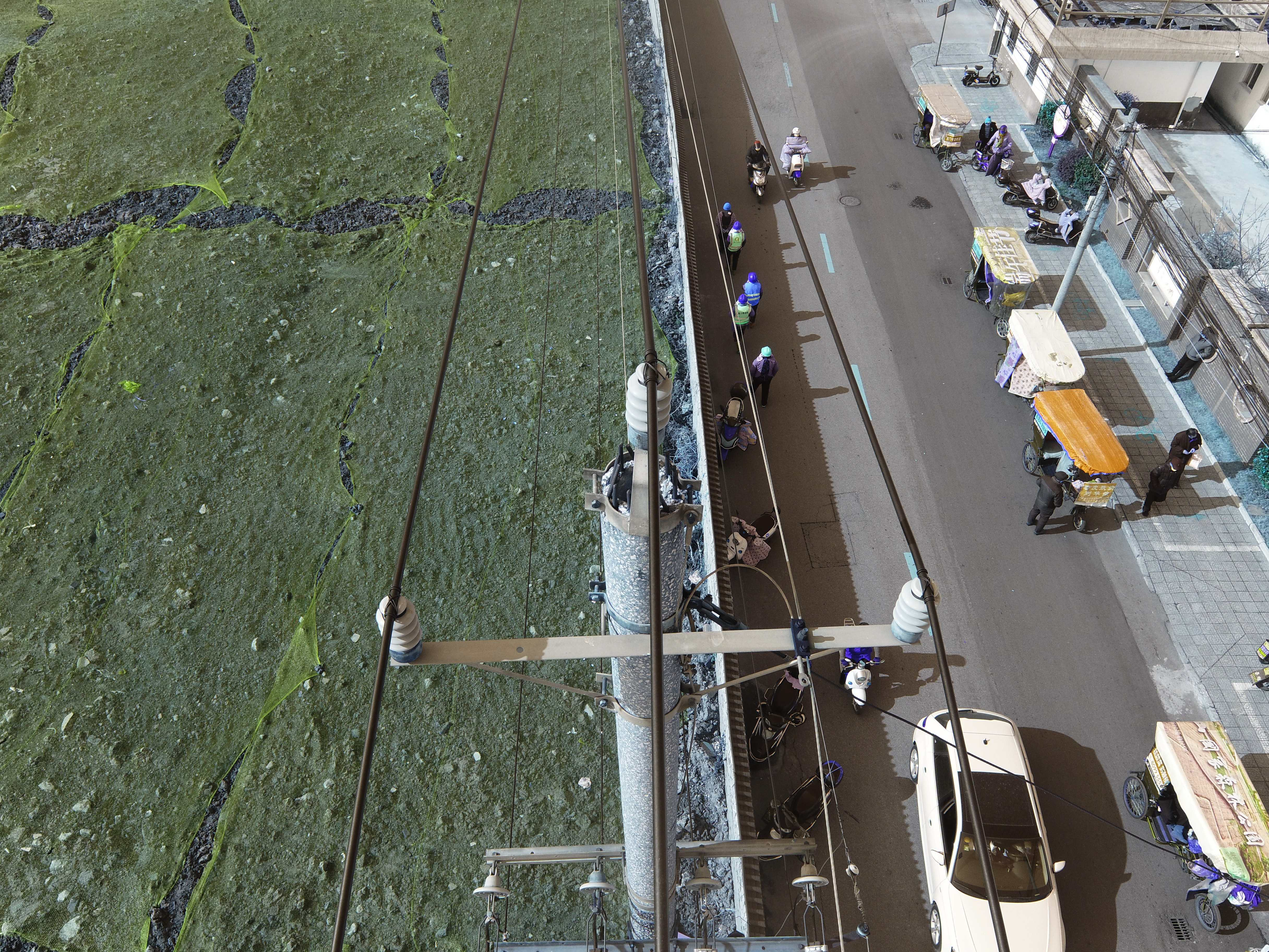severe_soiling_no_discharge_whole: (855, 921, 871, 938)
